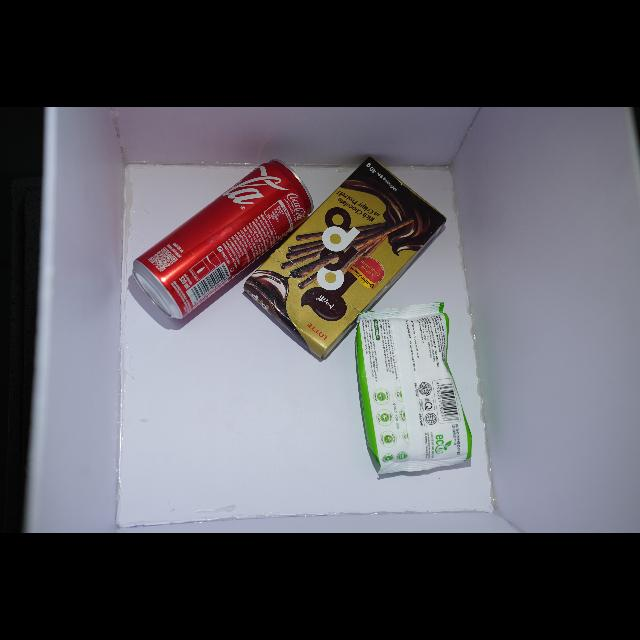banh_toppo_socola: (244, 158, 444, 358)
coca_cola: (133, 161, 314, 319)
khan_giay: (356, 303, 472, 474)
